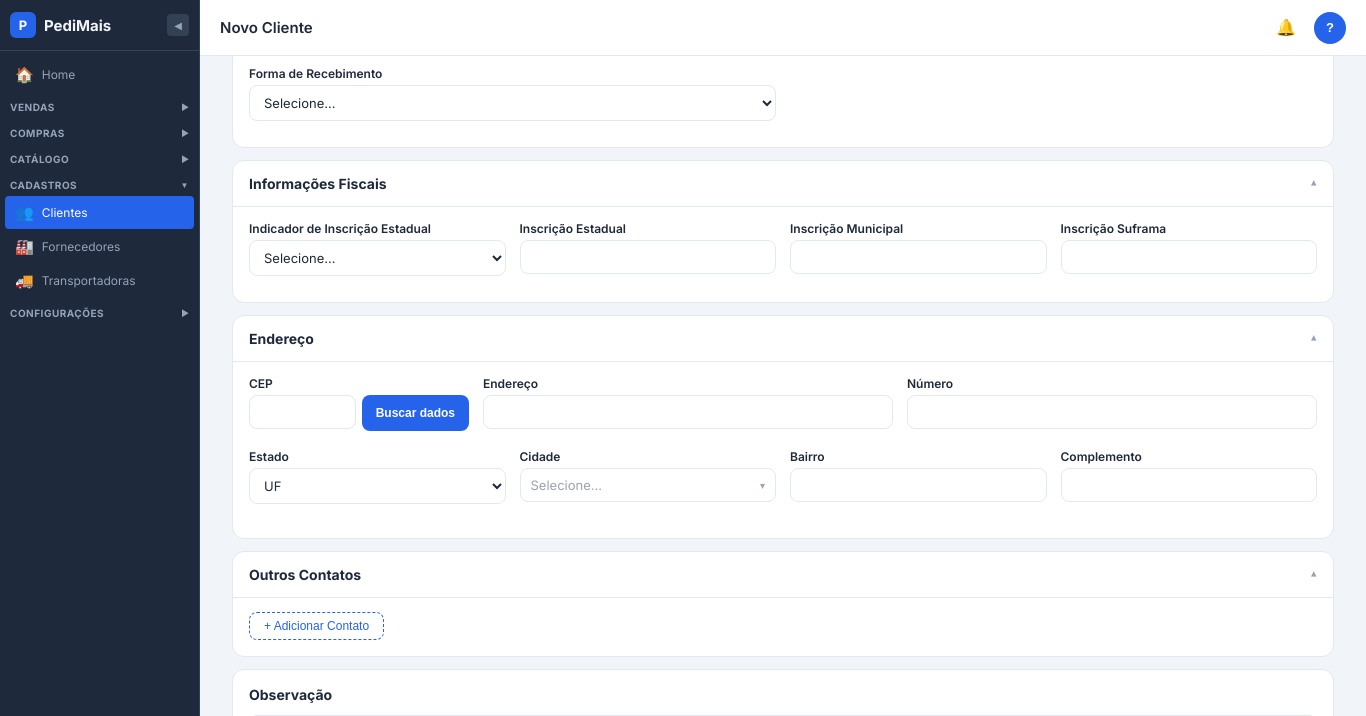
Test: ClienteFormView › masks the CEP field while typing
The width and height of the screenshot is (1366, 716).
(page scrolled)
Step 1. Type "01310100" into the field with test id "cep" → (302, 412), box [249,395,356,429]
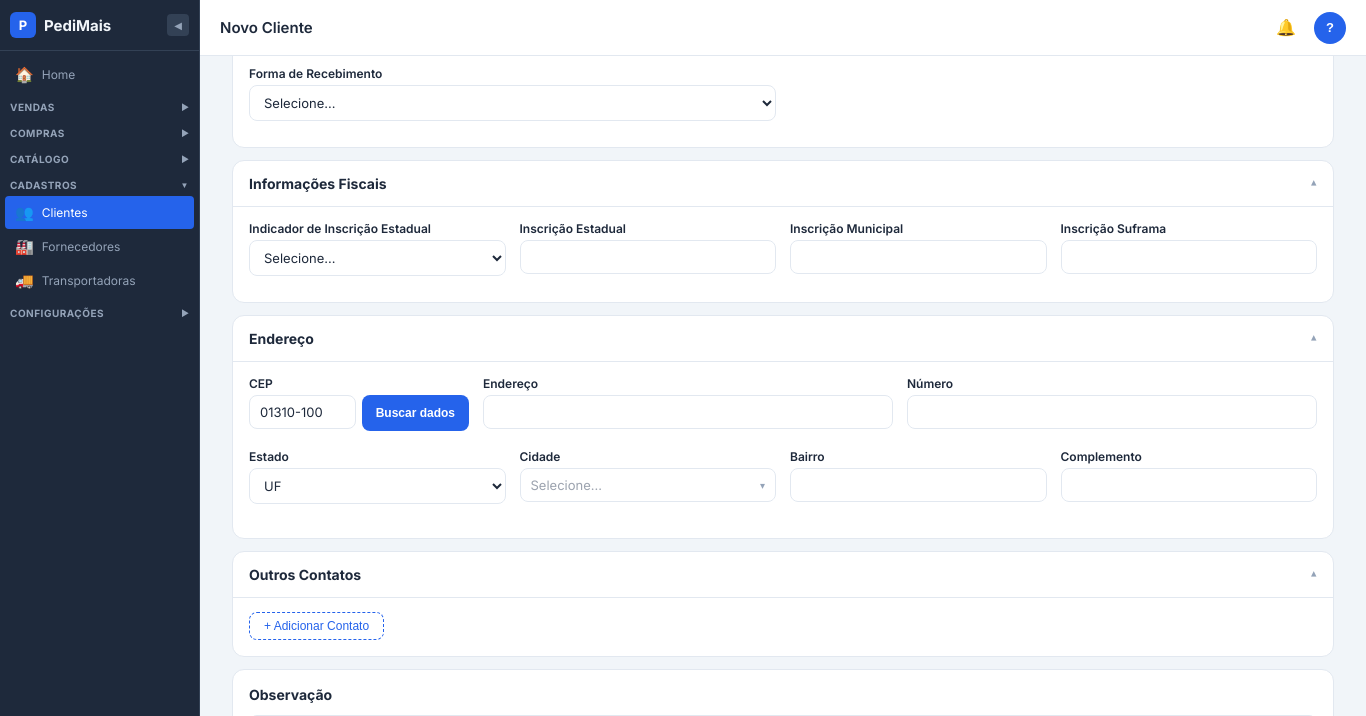
Check: the field with test id "cep" holds "01310-100", box [249,395,356,429]
